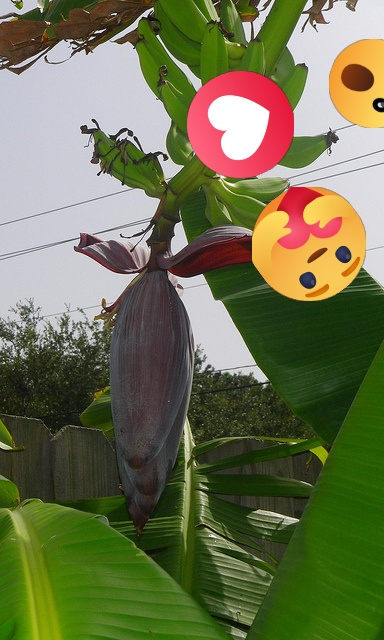care: (252, 187, 366, 301)
love: (187, 71, 294, 178)
wow: (329, 39, 384, 128)
